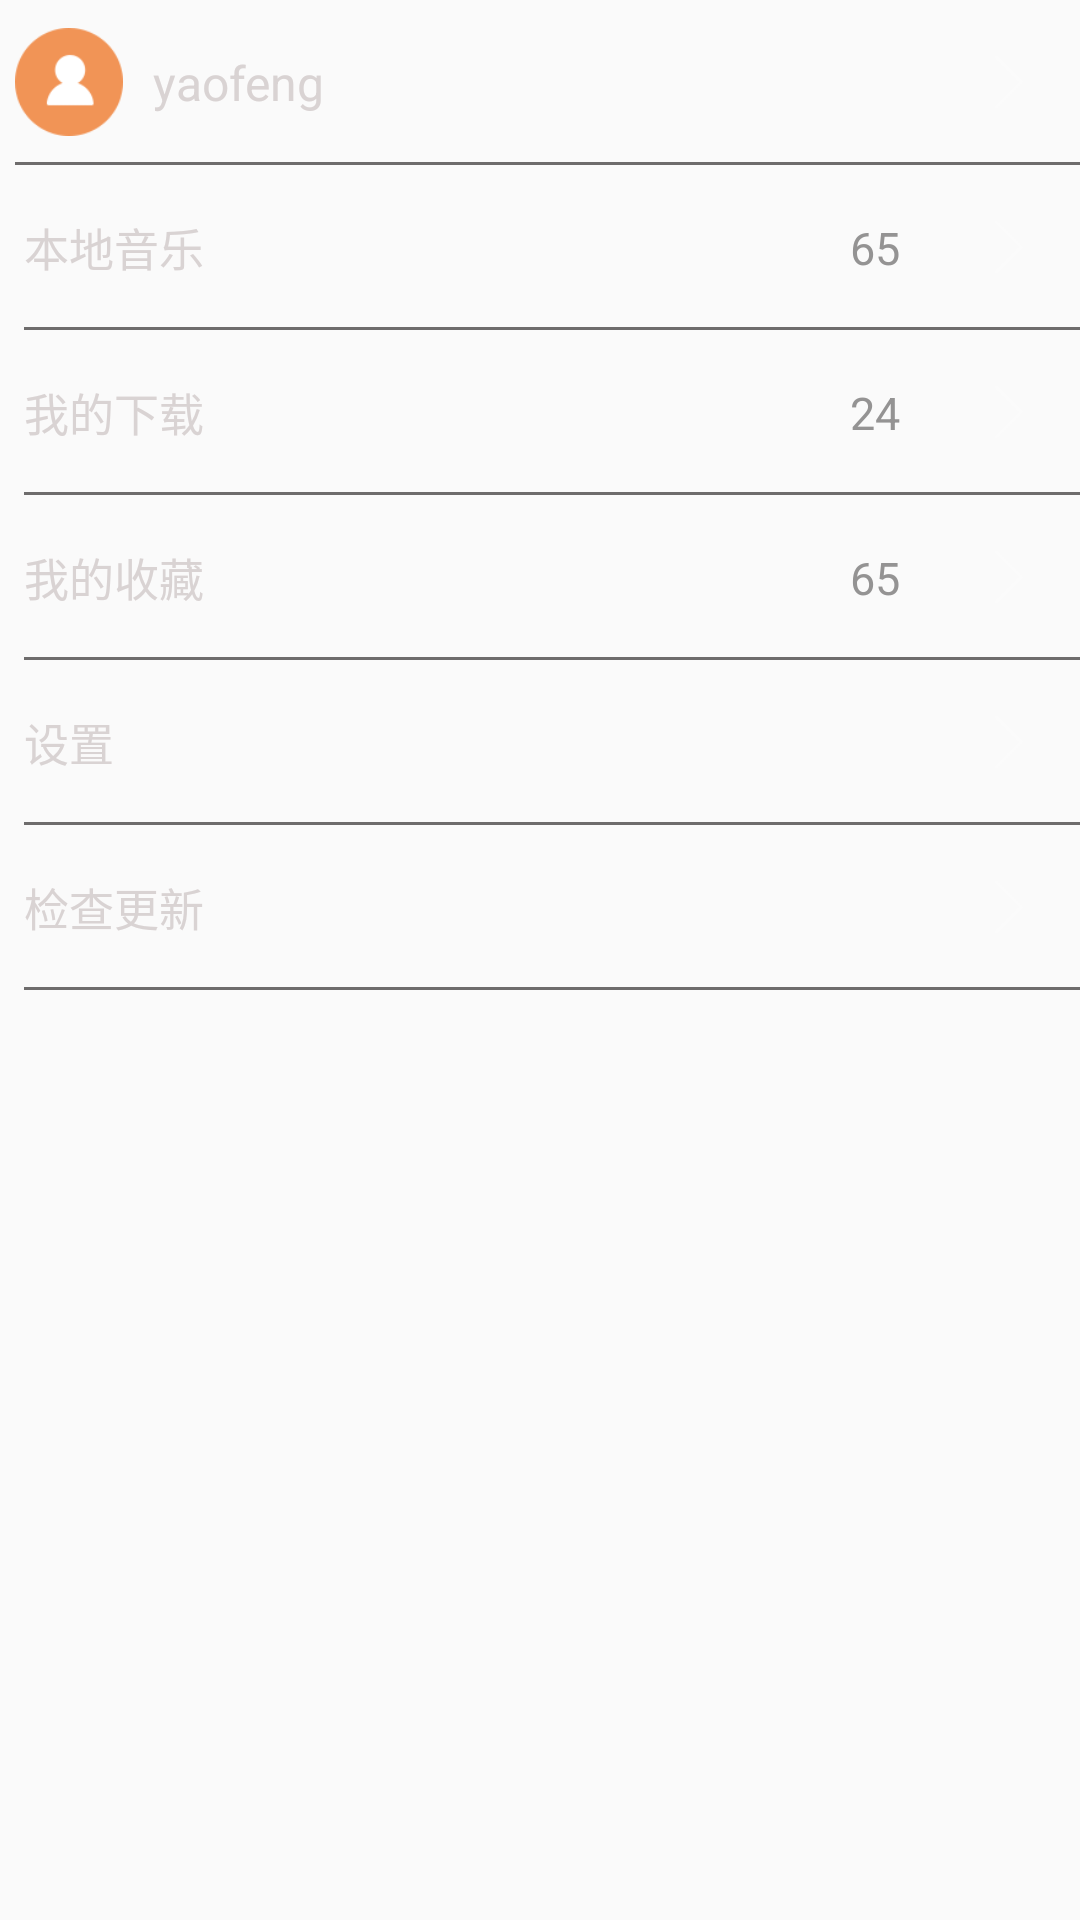

Icons on this 1080w x 1920h Android screen, each with the point to tap as (x=x, y=y):
avator: (x=69, y=82)
